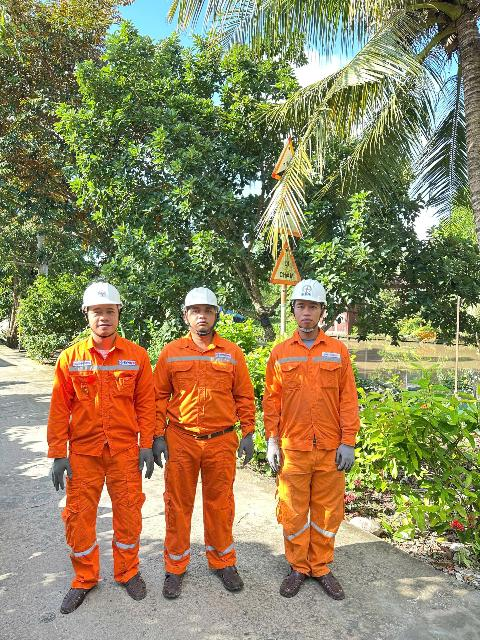gloves: (46, 454, 96, 503), (259, 430, 287, 481), (144, 430, 179, 467), (134, 445, 162, 482), (331, 436, 352, 483), (235, 428, 258, 465)
helmet: (74, 275, 132, 320), (172, 282, 220, 314), (288, 276, 336, 308)
shoes: (214, 551, 258, 595), (162, 561, 215, 597), (316, 559, 348, 608), (112, 566, 157, 599), (56, 579, 98, 607), (279, 561, 308, 601)
